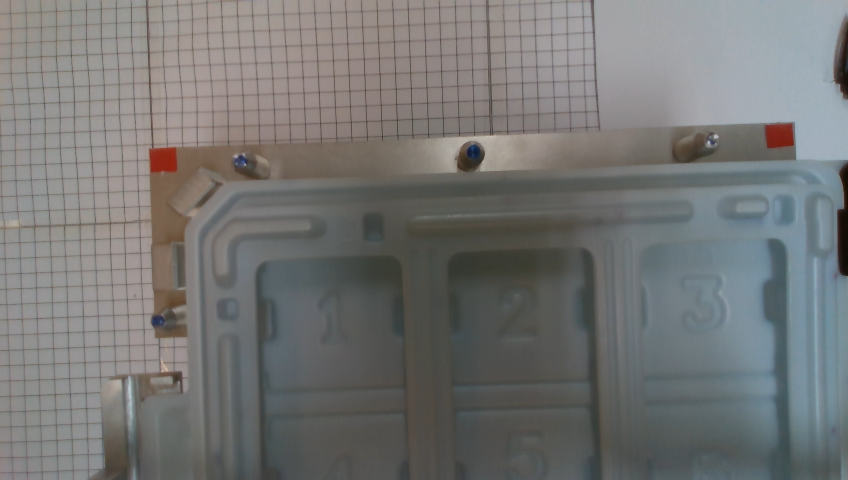red: (767, 123, 793, 148), (150, 148, 177, 172)
